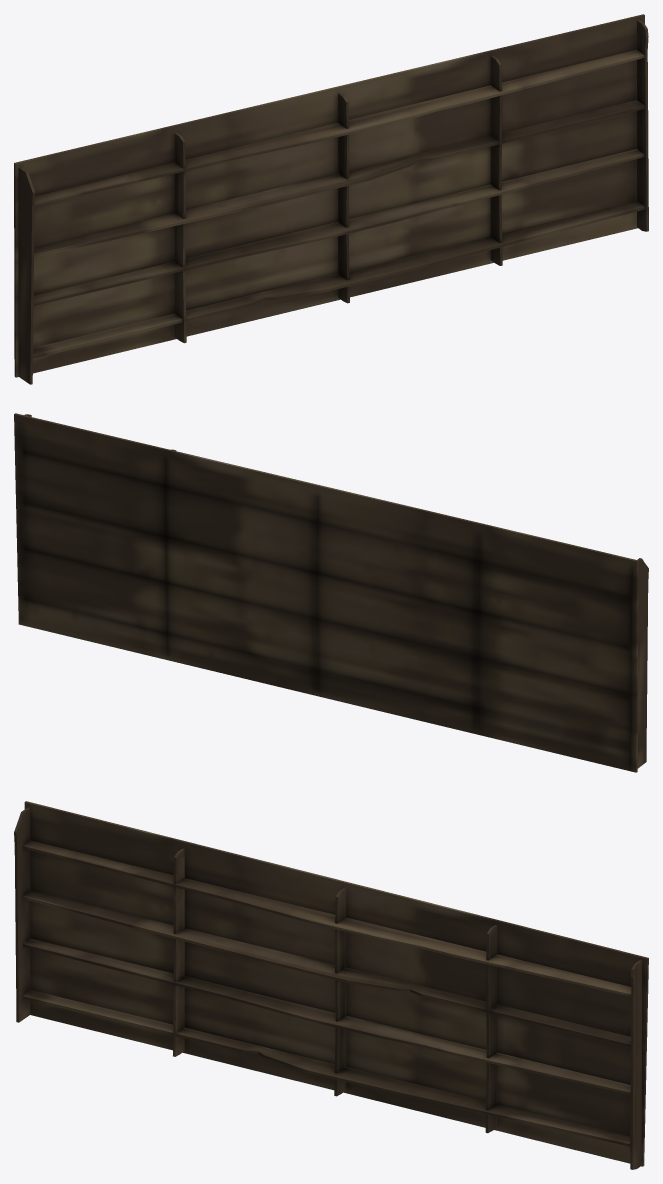
The model's file is Wardrobe3.fbx.
3 renders of one model, top to bottom at view 1: azimuth 30°, elevation 25°; view 2: azimuth 150°, elevation 25°; view 3: azimuth 330°, elevation 25°, orthographic.
Parts seen in each view (by area): view 1: Wardrobe3; view 2: Wardrobe3; view 3: Wardrobe3.
Boxes of the visible parts, box(x1,y1,x2,y2) form: Wardrobe3: box(14, 14, 648, 384); Wardrobe3: box(14, 413, 648, 772); Wardrobe3: box(14, 801, 648, 1169).
Size of the model in its own units: 1172 by 385 by 50.01.
Materials: 1 (1 with a texture image).
